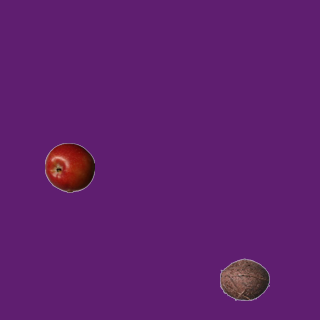Apple Braeburn: (44, 142, 94, 192)
Cocos: (219, 254, 269, 304)
